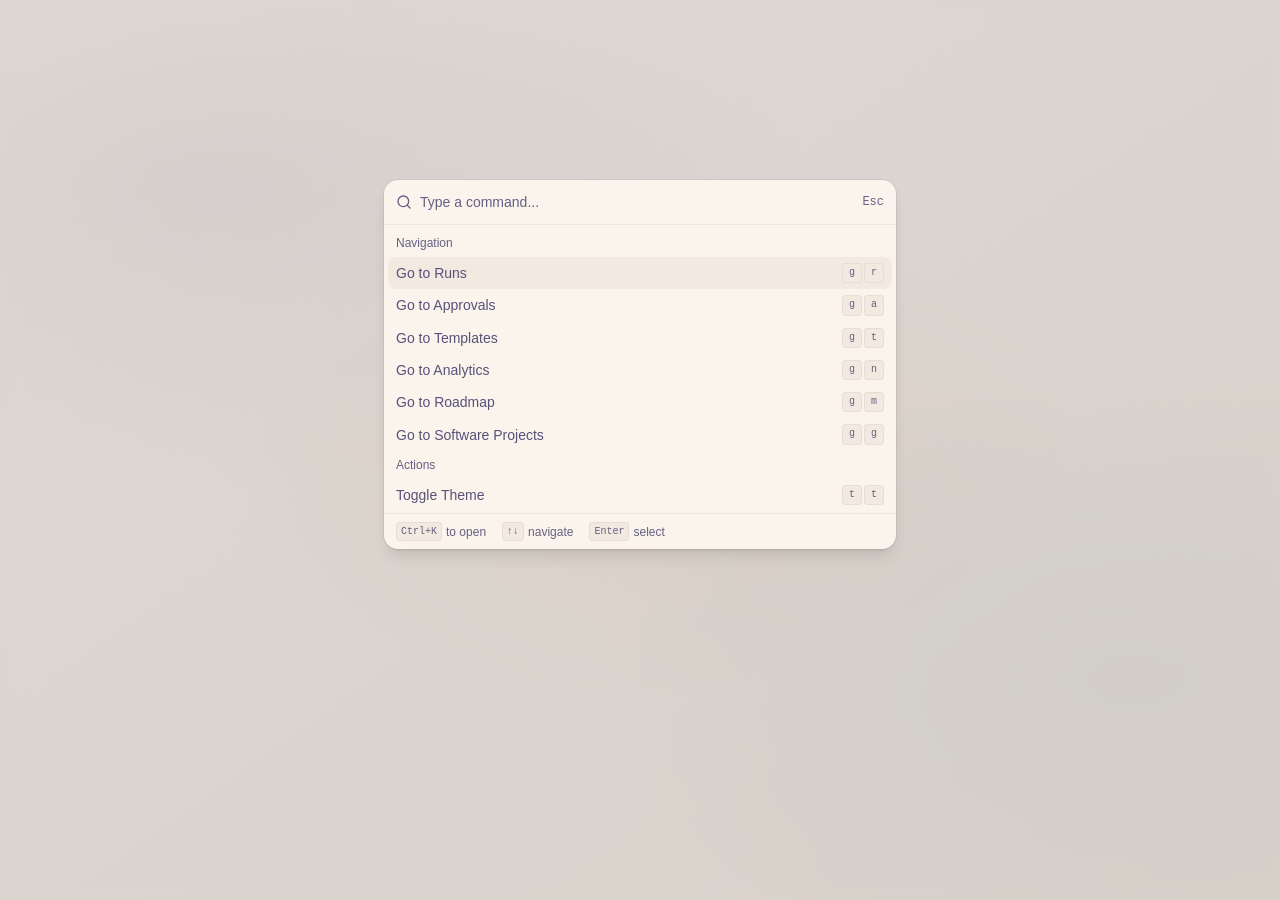
Test: CommandPalette › filters commands as user types
In the dropdown with placeholder "Type a command...": (637, 202) [420,180,854,224], type "toggle"
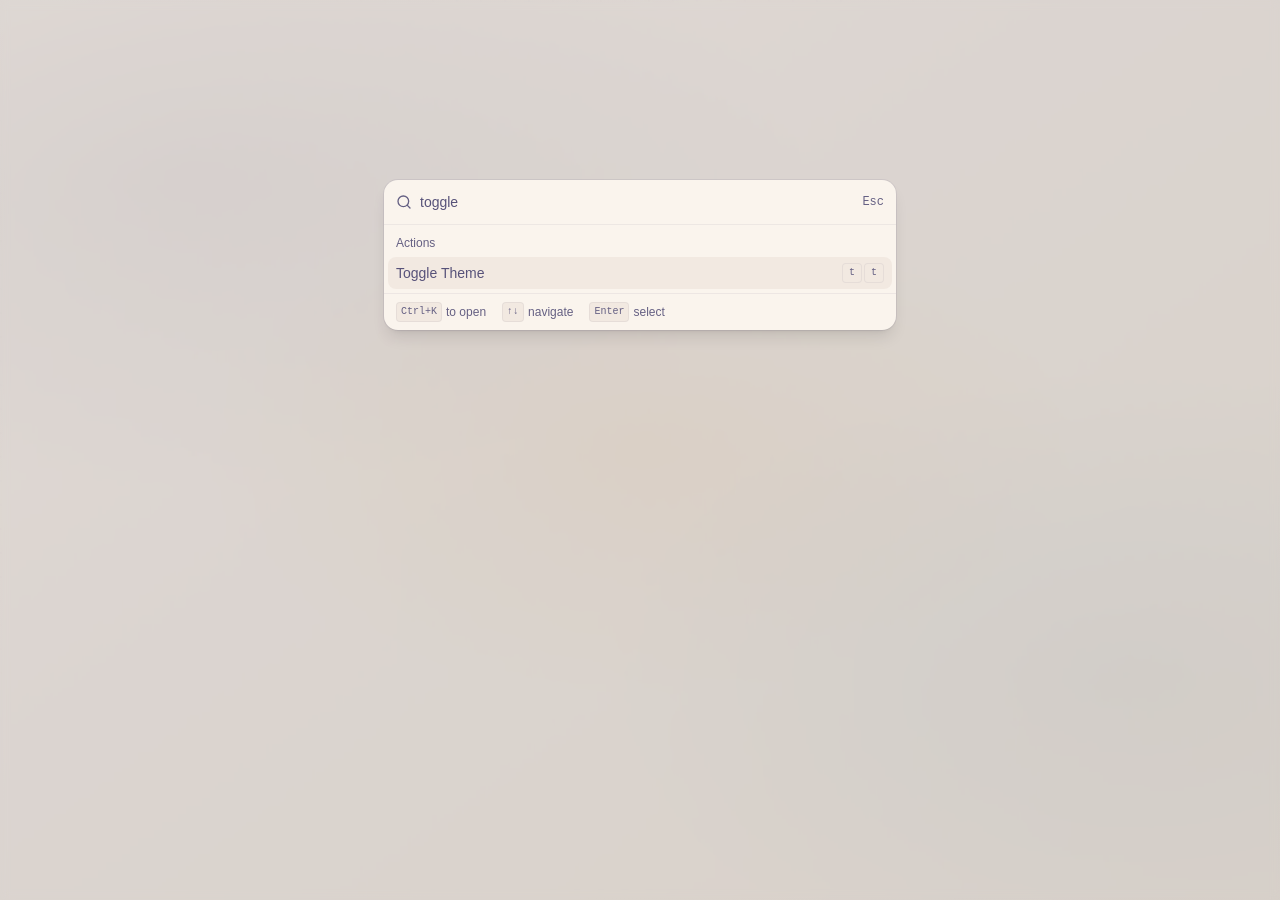
Expected: the text "Toggle Theme" is shown, [396,263,484,283]
Expected: the option "Go to Runs" is gone
